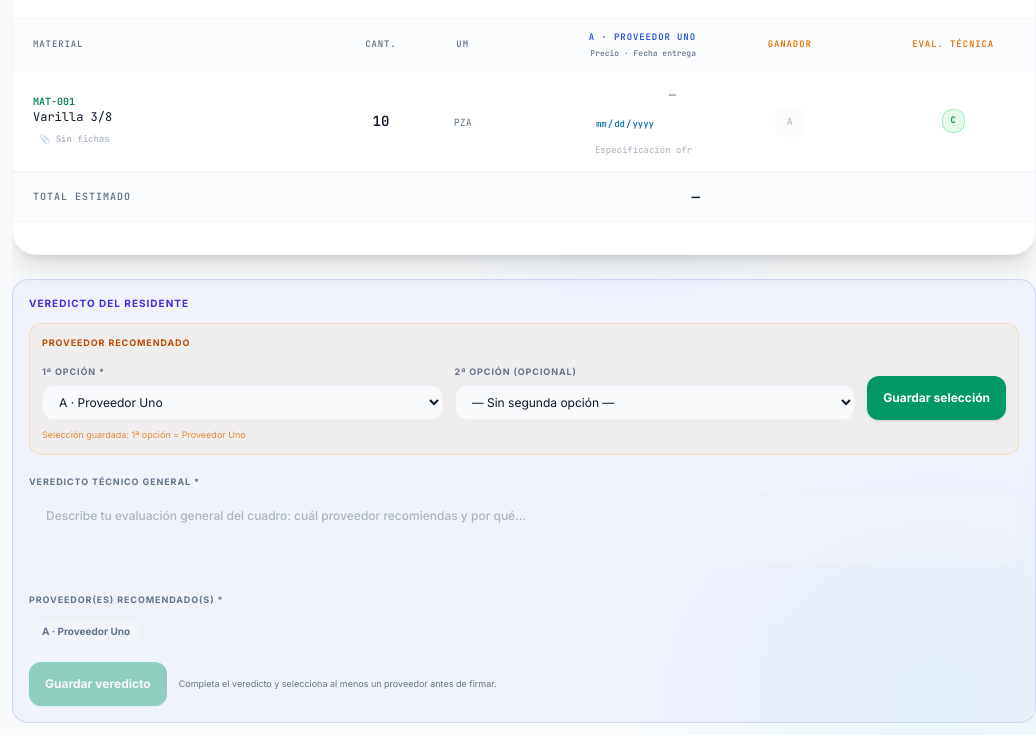
ComparativaDetail — el diálogo de firma muestra el proyecto activo › el diálogo de confirmación de firma incluye el nombre del proyecto activo
The image size is (1036, 735).
(page scrolled)
Expected: the text "Varilla 3/8" is shown, [33,108,112,124]
Replace the text in the text box with placeholder "Describe tu evaluación general" with "Todo en orden, recomiendo este proveedor." at (524, 530), box [29,494,1019,566]
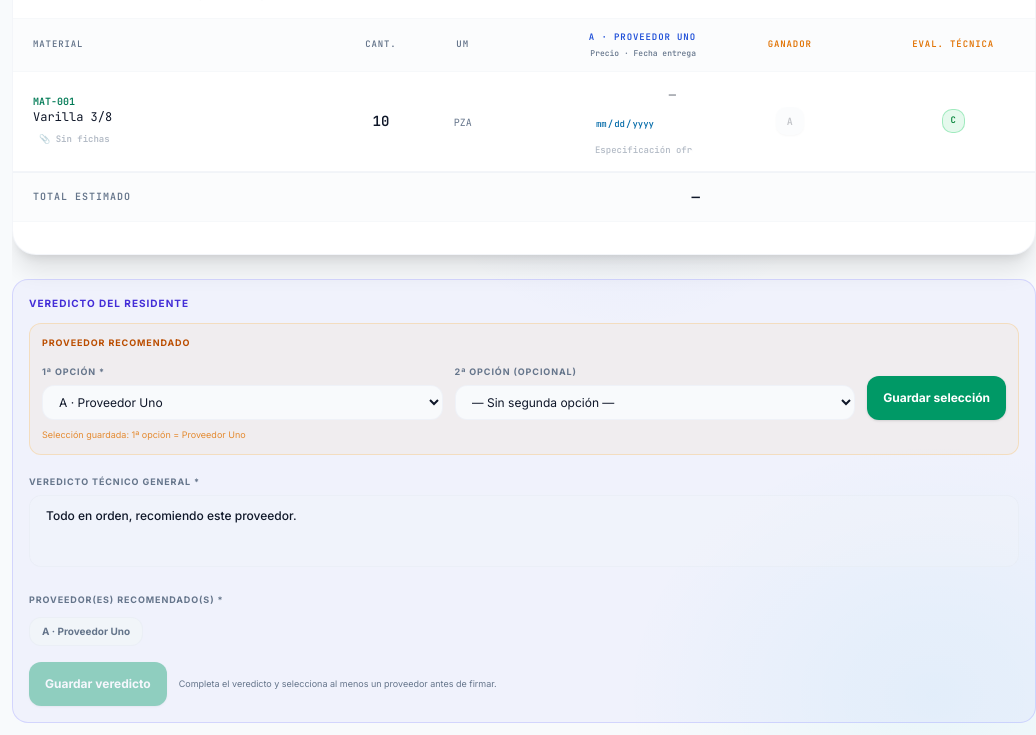
Click the button "A · Proveedor Uno" at (86, 631), box [29,616,143,646]
(page scrolled)
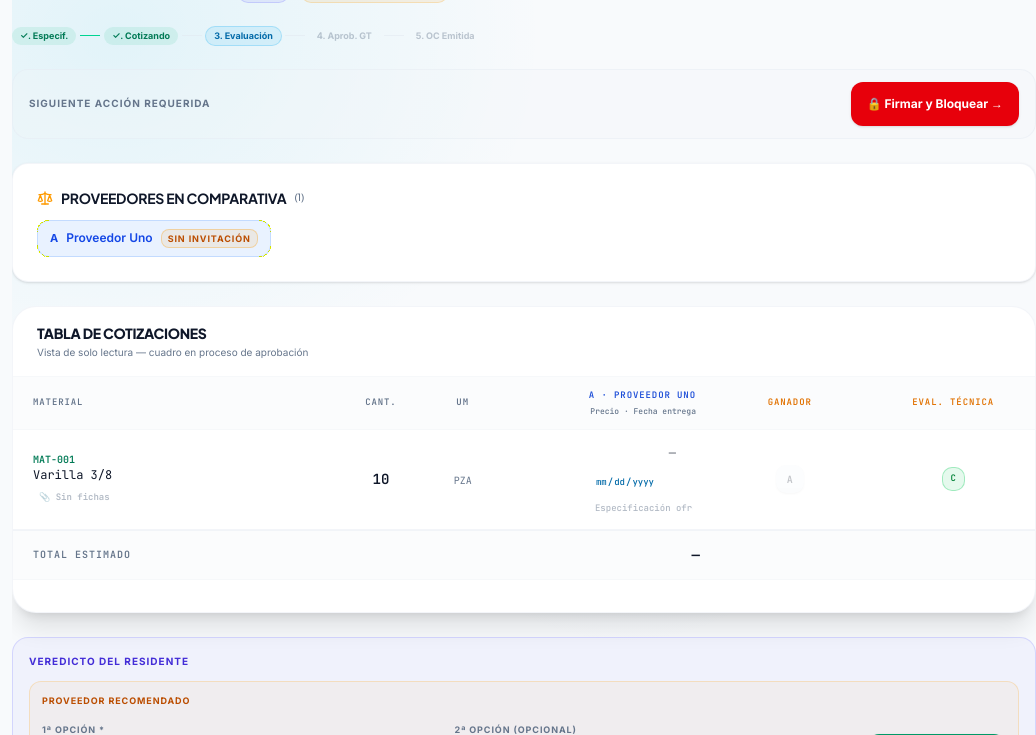
Click the button "🔒 Firmar y Bloquear →" at (935, 104), box [851,82,1019,126]
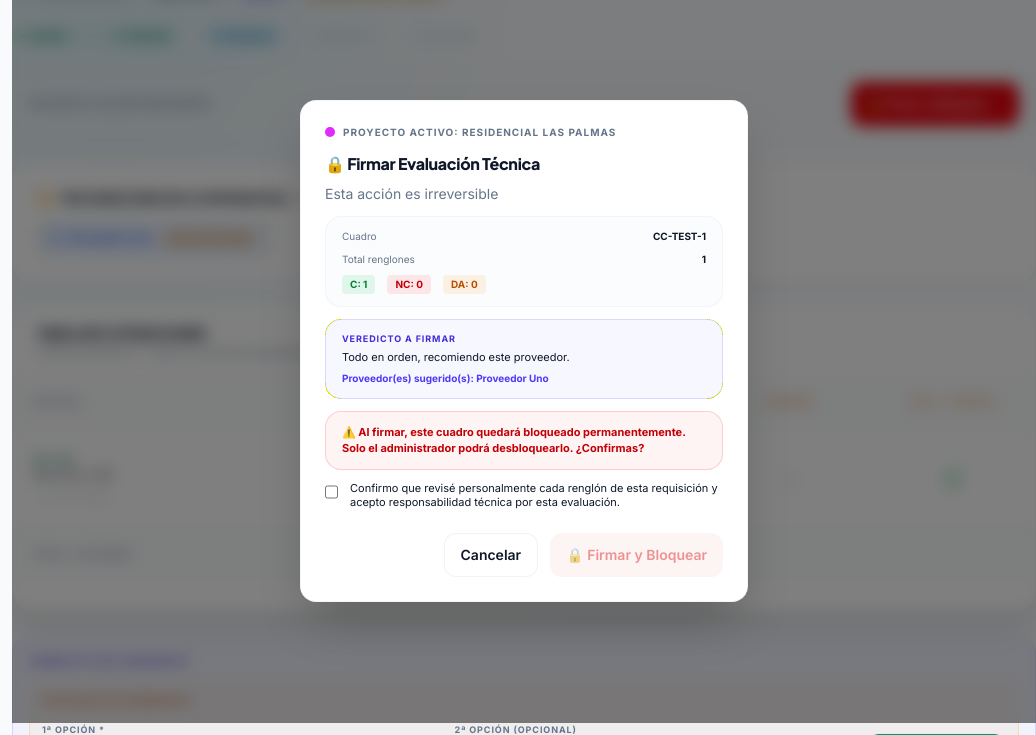
Now the text "Proyecto activo: Residencial Las Palmas" is shown, box [343,125,616,140]
